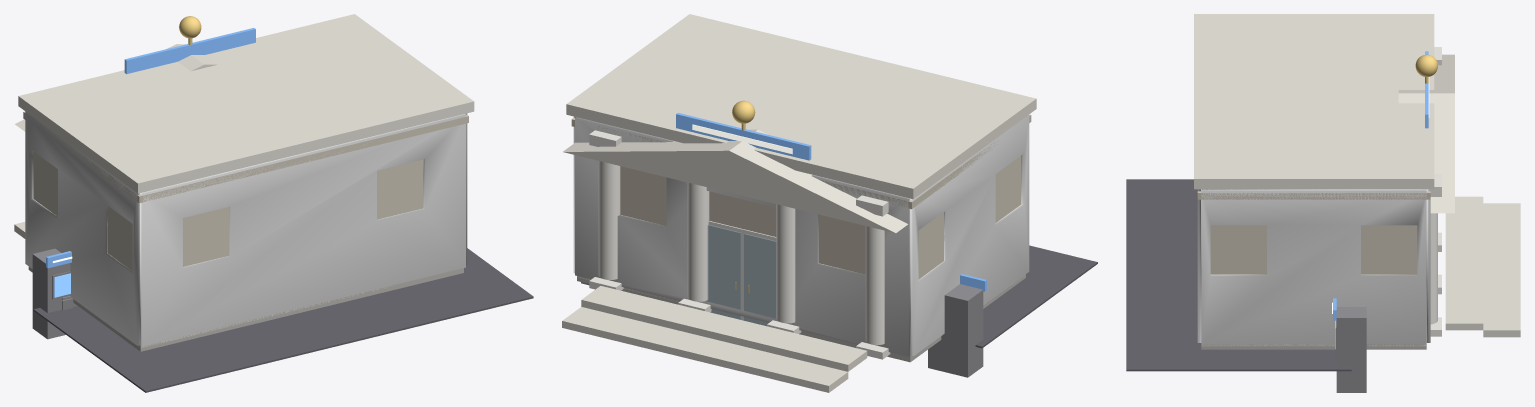
Rendered from bank_branch.glb.
The picture shows the model from 3 angles, left to right: view 1: azimuth 30°, elevation 25°; view 2: azimuth 150°, elevation 25°; view 3: azimuth 270°, elevation 25°; orthographic projection. The views are drawn at different scales.
Visible parts, largest first — view 1: back_wall, roof, sidewalk, left_wall, body (×2), cornice, foundation, sign_back, pediment; view 2: roof, front_wall, left_wall, body (×2), pediment, shaft (×4), step_2, step_1, door_frame, sidewalk, door_r, door_l (+5 smaller); view 3: roof, right_wall, sidewalk, body (×2), step_2, step_1, pediment, cornice, foundation, shaft, front_wall, back_wall (+2 smaller).
Boxes of the visible parts, left/top/right/bottom form: back_wall: left=140, top=114, right=465, bottom=346; roof: left=18, top=14, right=474, bottom=193; sidewalk: left=33, top=248, right=533, bottom=392; left_wall: left=25, top=111, right=140, bottom=345; body (×2): left=32, top=151, right=423, bottom=339; cornice: left=23, top=111, right=468, bottom=203; foundation: left=28, top=267, right=463, bottom=351; sign_back: left=124, top=28, right=255, bottom=74; pediment: left=15, top=44, right=217, bottom=131; roof: left=566, top=14, right=1036, bottom=198; front_wall: left=575, top=117, right=910, bottom=356; left_wall: left=910, top=115, right=1029, bottom=356; body (×2): left=620, top=155, right=1021, bottom=377; pediment: left=563, top=129, right=907, bottom=233; shaft (×4): left=598, top=161, right=884, bottom=345; step_2: left=562, top=307, right=848, bottom=392; step_1: left=581, top=286, right=867, bottom=371; door_frame: left=707, top=221, right=776, bottom=325; sidewalk: left=975, top=245, right=1097, bottom=348; door_r: left=705, top=225, right=741, bottom=319; door_l: left=744, top=233, right=776, bottom=325; roof: left=1194, top=14, right=1434, bottom=189; right_wall: left=1201, top=189, right=1426, bottom=344; sidewalk: left=1126, top=179, right=1351, bottom=371; body (×2): left=1208, top=189, right=1424, bottom=392; step_2: left=1483, top=203, right=1520, bottom=337; step_1: left=1445, top=196, right=1483, bottom=330; pediment: left=1398, top=54, right=1454, bottom=213; cornice: left=1197, top=191, right=1430, bottom=199; foundation: left=1201, top=344, right=1426, bottom=349; shaft: left=1430, top=213, right=1437, bottom=324; front_wall: left=1426, top=189, right=1430, bottom=342; back_wall: left=1197, top=189, right=1201, bottom=342.
Size of the model in its own units: 12 by 7.2 by 10.5.
